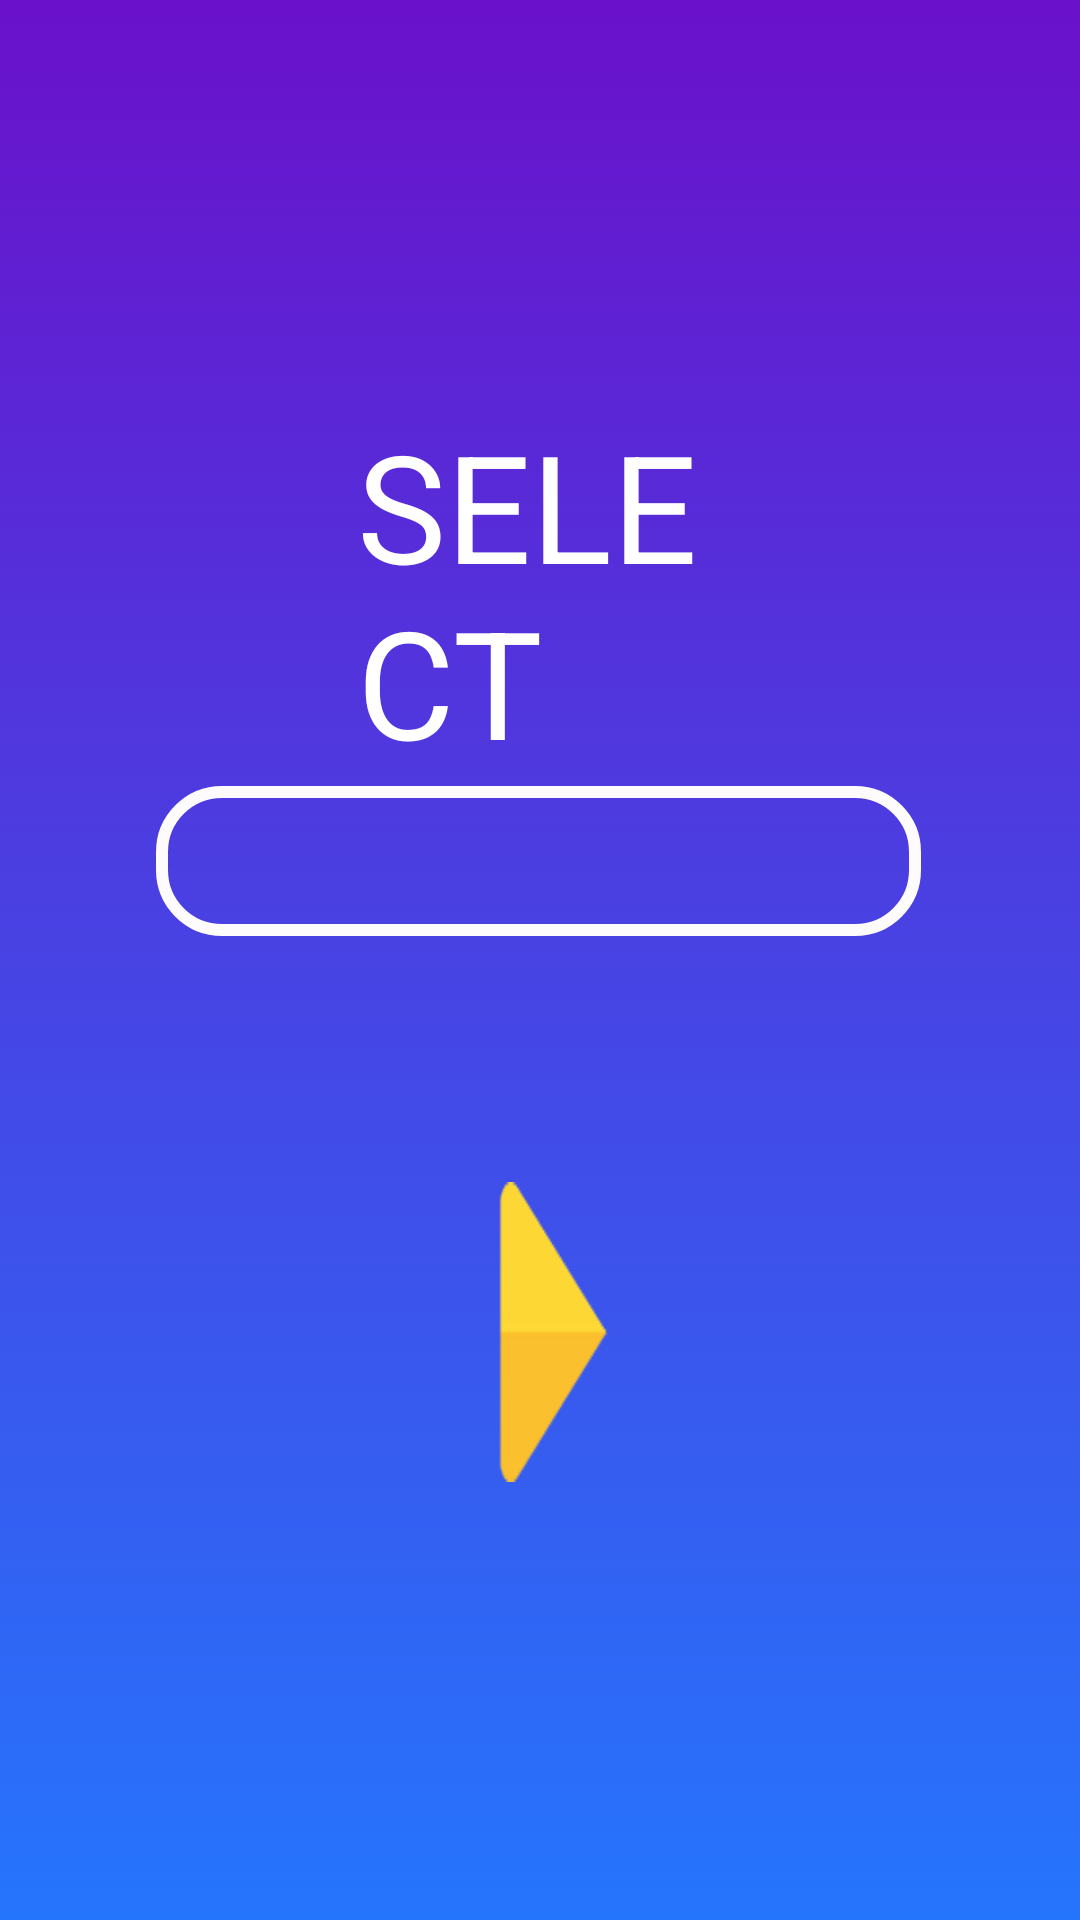

Named icons in this screenshot (1080px×1920px) and their centers, [x,y]:
forward: [553,1332]
